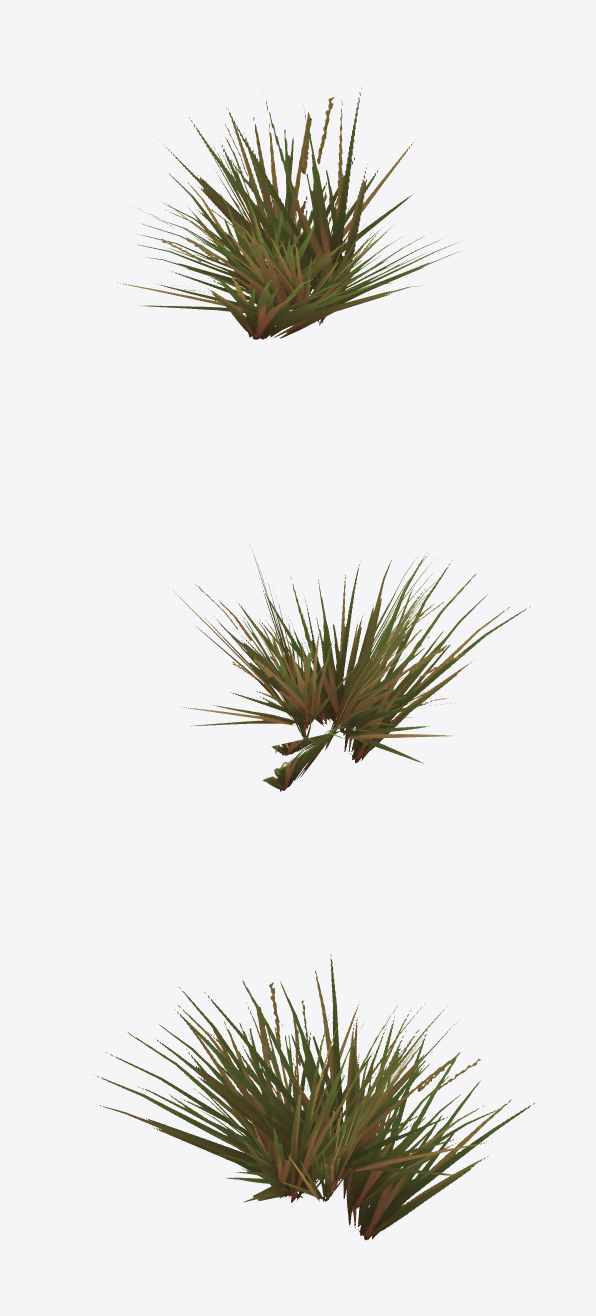
The model's file is kusa.glb.
The picture shows the model from 3 angles, top to bottom: view 1: azimuth 30°, elevation 25°; view 2: azimuth 150°, elevation 25°; view 3: azimuth 270°, elevation 25°; orthographic projection. The views are drawn at different scales.
Visible parts, largest first — view 1: v1_lod0, v2_lod0, v0_lod0; view 2: v2_lod0, v1_lod0, v0_lod0; view 3: v2_lod0, v1_lod0, v0_lod0.
Boxes of the visible parts, x1,y1,x2,y2 form: v1_lod0: (117, 87, 393, 312); v2_lod0: (132, 97, 465, 339); v0_lod0: (137, 202, 380, 325); v2_lod0: (173, 553, 530, 791); v1_lod0: (249, 544, 464, 763); v0_lod0: (235, 578, 443, 755); v2_lod0: (93, 987, 534, 1240); v1_lod0: (154, 954, 457, 1202); v0_lod0: (184, 982, 503, 1208).
Size of what is drawn, in the model's own units: 1.08 by 0.7428 by 1.01.
1 material, 1 textured.
